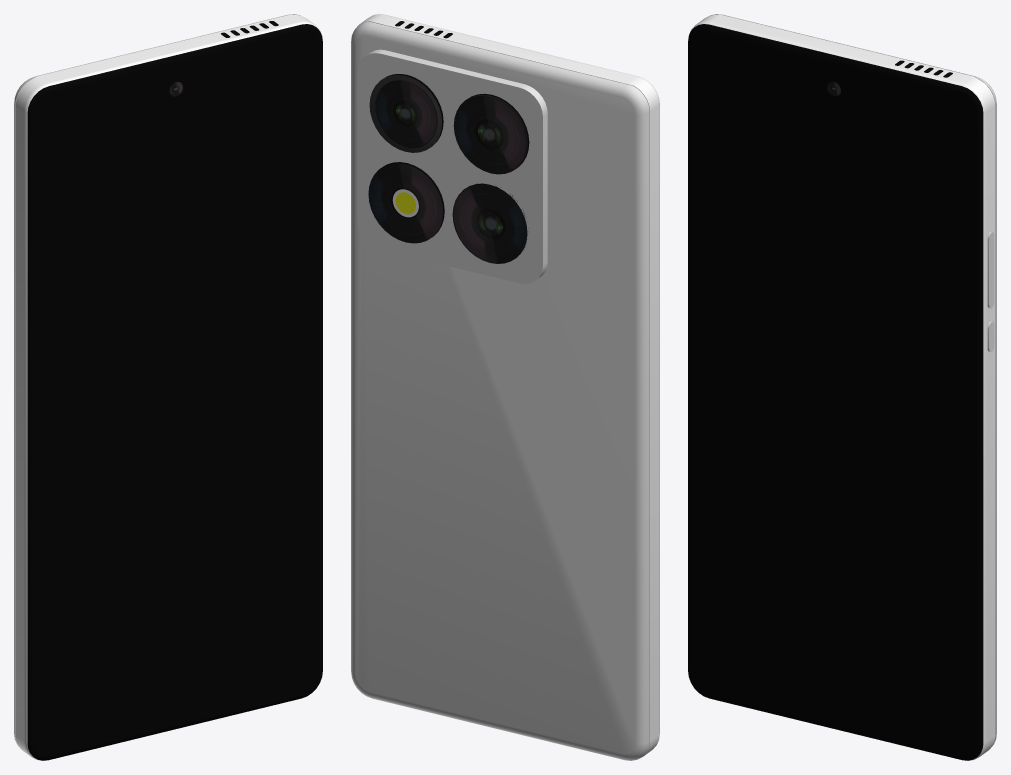
File: Hp 2 perbaiki.fbx
The picture shows the model from 3 angles, left to right: view 1: azimuth 30°, elevation 25°; view 2: azimuth 150°, elevation 25°; view 3: azimuth 330°, elevation 25°; orthographic projection.
Parts seen in each view (by area): view 1: Handphone.001; view 2: Handphone.001; view 3: Handphone.001.
Part boxes in pixels (x1,y1,x2,y2): Handphone.001: (14, 14, 322, 760); Handphone.001: (351, 14, 659, 760); Handphone.001: (688, 14, 996, 760).
Bounding box in the file's own units: 7.6 × 16.43 × 1.06.
20 materials, 5 textured.
